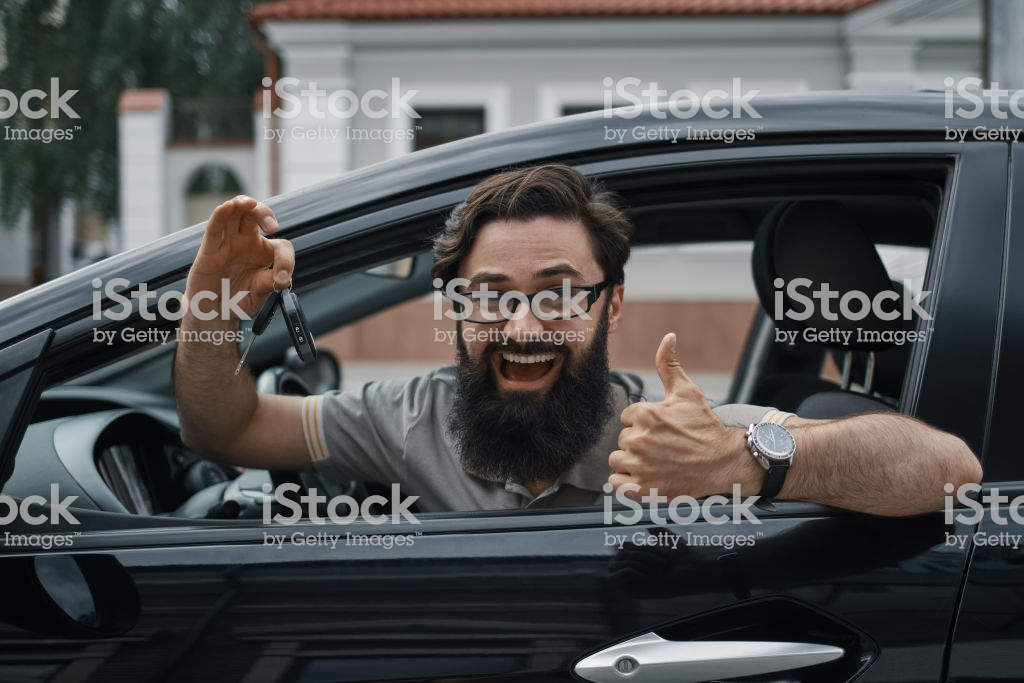thumbsup: (607, 326, 712, 501)
